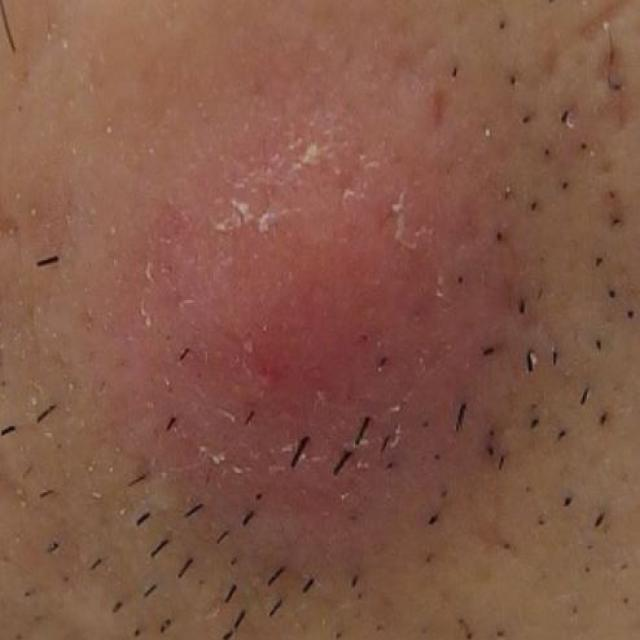nodule: (139, 108, 530, 420)
